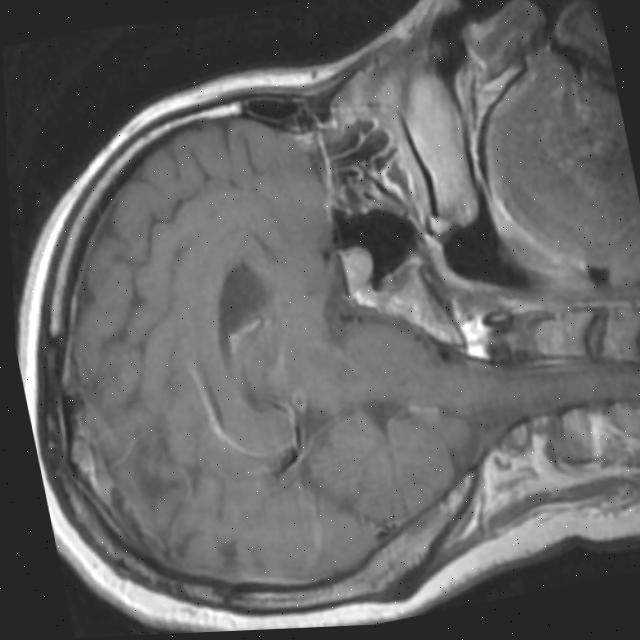Pituitary: (335, 240, 379, 297)
